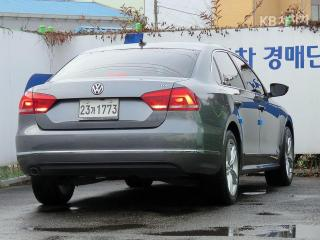1: (96, 104, 101, 114)
2: (80, 104, 85, 115)
3: (85, 103, 91, 115), (112, 104, 117, 115)
7: (101, 104, 107, 115), (107, 104, 112, 115)
가: (90, 106, 97, 115)
